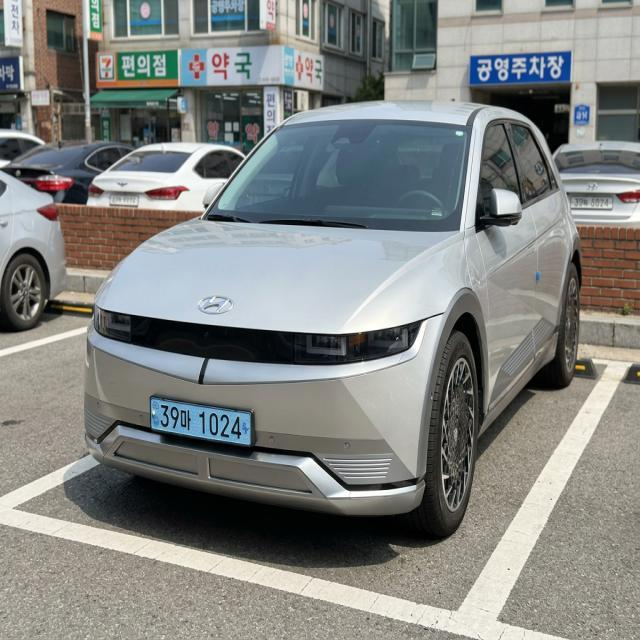car: (141, 388, 272, 463)
carev: (240, 409, 253, 452), (149, 397, 160, 435)
